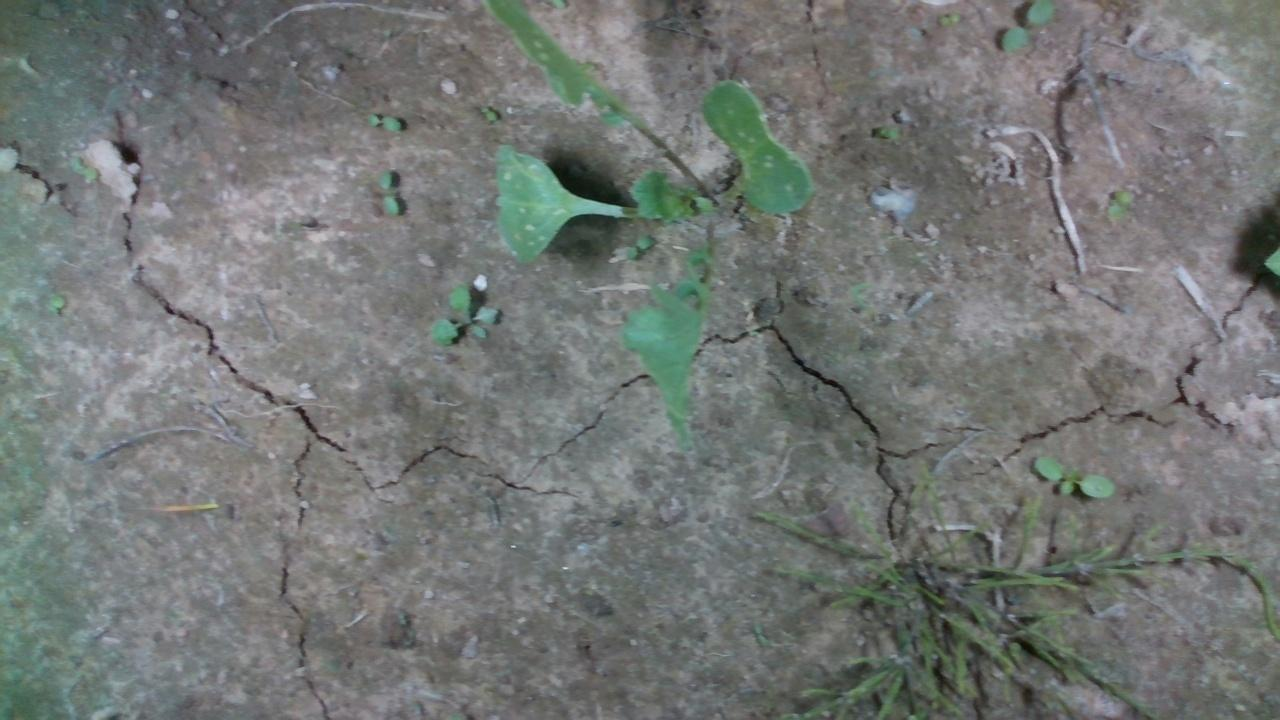weed: (1028, 449, 1126, 507), (428, 280, 499, 346), (363, 165, 396, 222), (1103, 181, 1130, 234), (366, 107, 402, 135), (469, 98, 501, 125)
